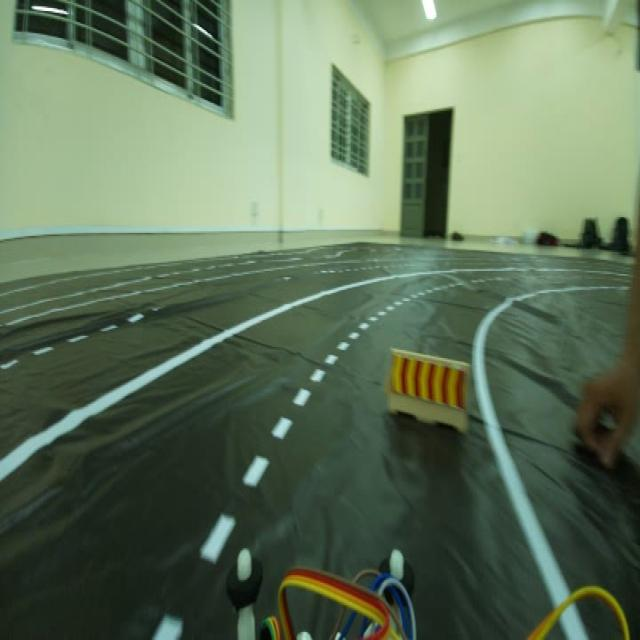roadblock: (381, 332, 468, 436)
